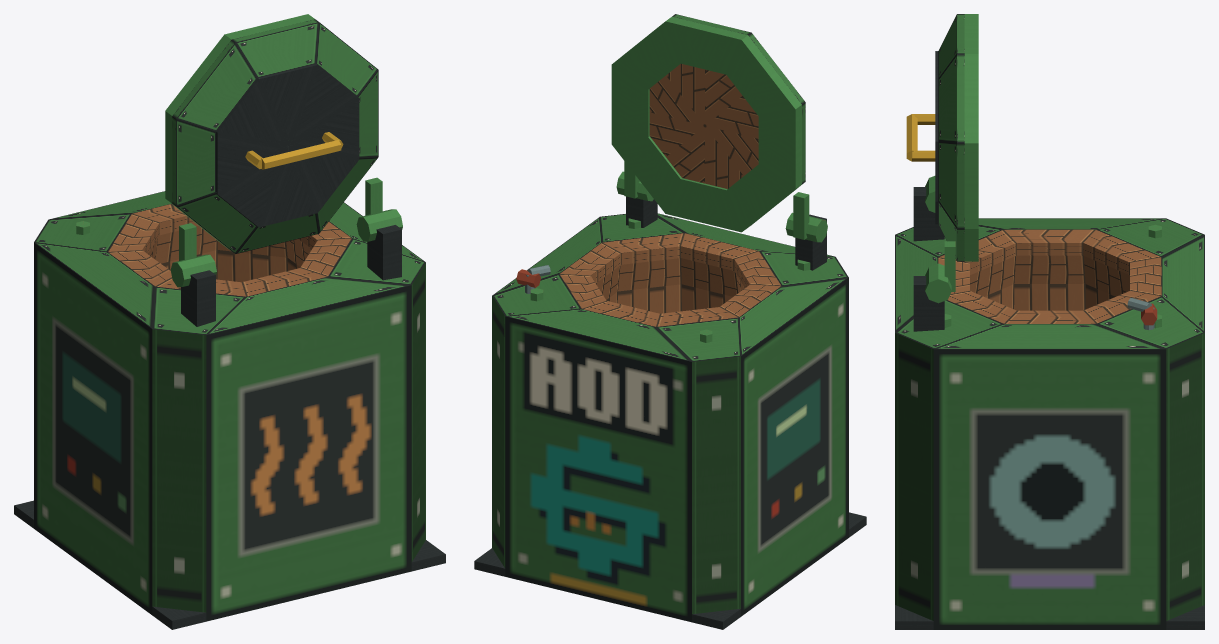
File: small_aod_ta4hfc5_open.obj
The picture shows the model from 3 angles, left to right: view 1: azimuth 30°, elevation 25°; view 2: azimuth 150°, elevation 25°; view 3: azimuth 270°, elevation 25°; orthographic projection. The views are drawn at different scales.
Parts seen in each view (by area): view 1: contact_south, lid, contact_west, cut_corners, shoulder, rim, hinge, lining, sole_edge; view 2: contact_north, lid, contact_west, shoulder, cut_corners, rim, lining, hinge, sole_edge, gas_trim; view 3: contact_east, cut_corners, shoulder, lid, rim, lining, hinge, sole_edge, gas_trim.
Part boxes in pixels (x1,y1,x2,y2): contact_south: (206, 285, 411, 621); lid: (165, 14, 382, 260); contact_west: (34, 242, 152, 614); cut_corners: (152, 263, 425, 612); shoulder: (34, 191, 425, 335); rim: (108, 204, 351, 296); hinge: (170, 209, 402, 326); lining: (148, 226, 311, 282); sole_edge: (14, 500, 445, 629); contact_north: (505, 316, 691, 622); lid: (611, 14, 809, 239); contact_west: (741, 277, 848, 616); shoulder: (492, 213, 848, 361); cut_corners: (492, 296, 740, 614); rim: (559, 233, 781, 326); lining: (596, 258, 744, 313); hinge: (616, 171, 827, 270); sole_edge: (474, 512, 866, 629); gas_trim: (516, 265, 550, 293); contact_east: (933, 349, 1166, 629); cut_corners: (895, 333, 1204, 620); shoulder: (895, 218, 1204, 349); lid: (906, 14, 978, 291); rim: (938, 229, 1161, 323); lining: (970, 255, 1129, 310); hinge: (913, 176, 951, 331); sole_edge: (895, 605, 1204, 629); gas_trim: (1127, 298, 1157, 330).
Size of the model in its own units: 1 by 1.89 by 1.
14 materials, 14 textured.
